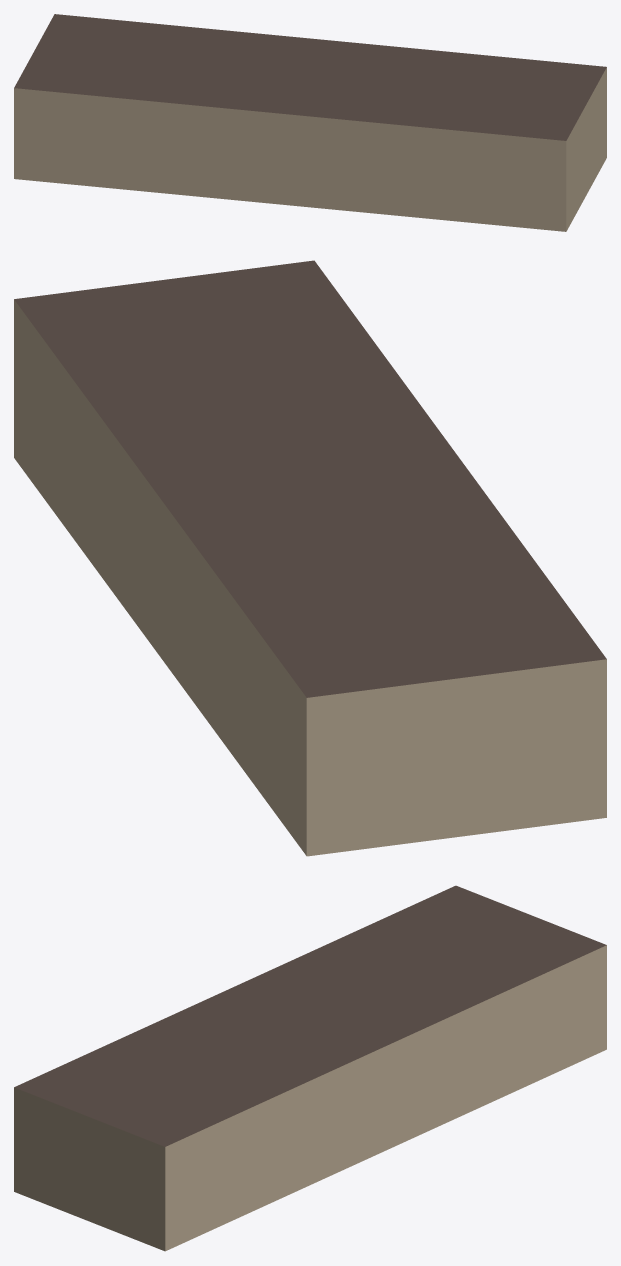
The picture shows the model from 3 angles, top to bottom: view 1: azimuth 30°, elevation 25°; view 2: azimuth 150°, elevation 25°; view 3: azimuth 270°, elevation 25°; orthographic projection. The views are drawn at different scales.
Parts seen in each view (by area): view 1: HP-w1286965417; view 2: HP-w1286965417; view 3: HP-w1286965417.
Part boxes in pixels (box(x1,y1,x2,y2)): HP-w1286965417: box(14, 14, 606, 231); HP-w1286965417: box(14, 260, 606, 856); HP-w1286965417: box(14, 885, 606, 1251).
Bounding box in the file's own units: 48.32 × 9 × 46.3.
